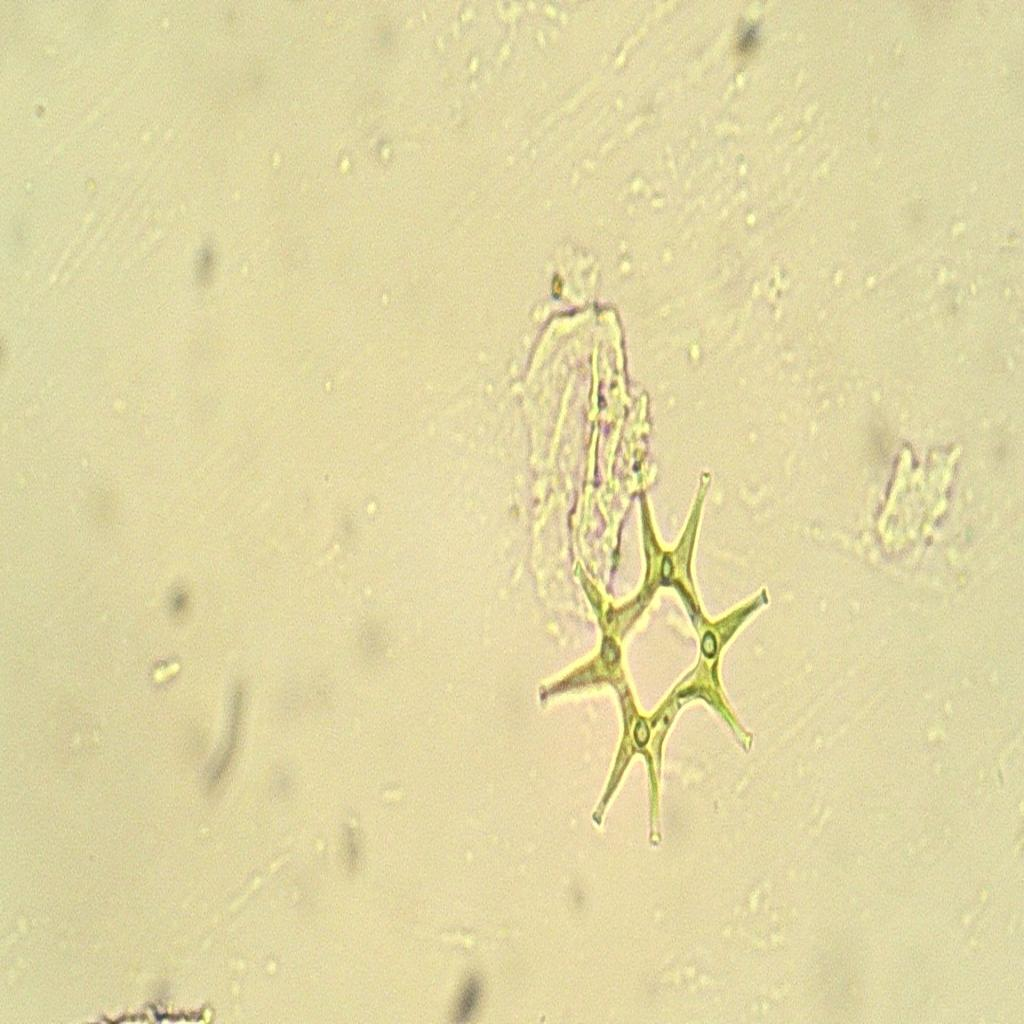Pediastrum_10: (521, 418, 785, 880)
